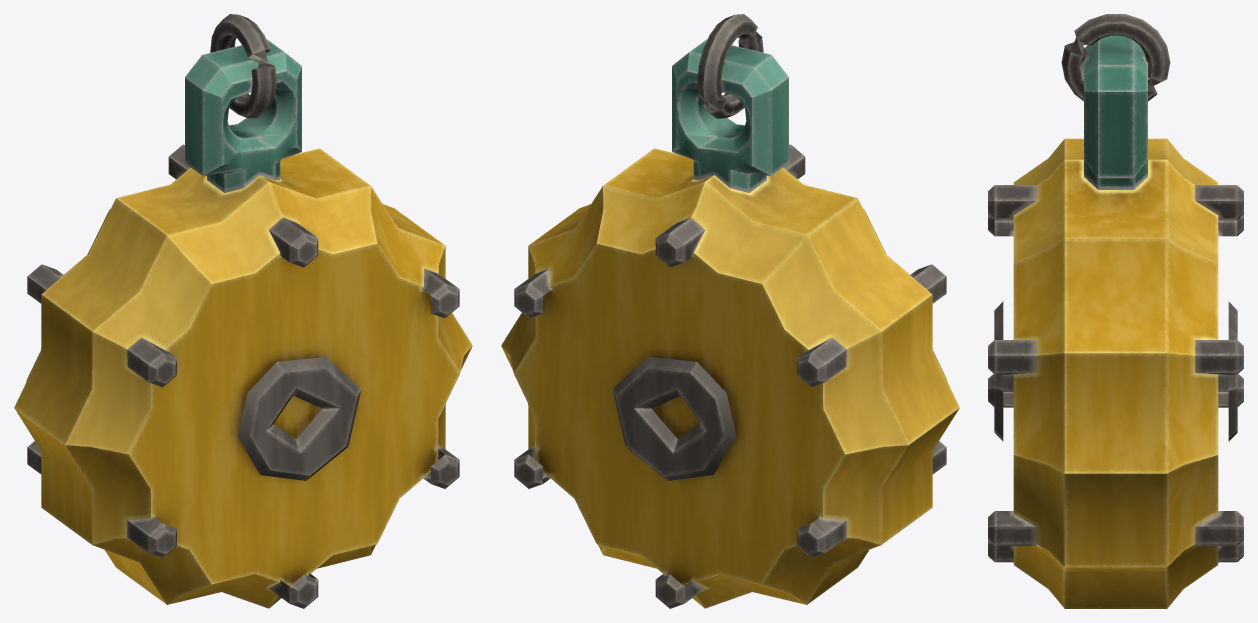
The model's file is Coffer Flail_Head.fbx.
3 views of the same model, side by side, from view 1: azimuth 30°, elevation 25°; view 2: azimuth 150°, elevation 25°; view 3: azimuth 270°, elevation 25° (orthographic).
Visible parts, largest first — view 1: Coffer Flail_Head; view 2: Coffer Flail_Head; view 3: Coffer Flail_Head.
Boxes of the visible parts, box(x1,y1,x2,y2) form: Coffer Flail_Head: box(14, 14, 472, 608); Coffer Flail_Head: box(501, 14, 959, 608); Coffer Flail_Head: box(988, 14, 1243, 608).
Bounding box in the file's own units: 0.738 × 0.9893 × 0.4.
